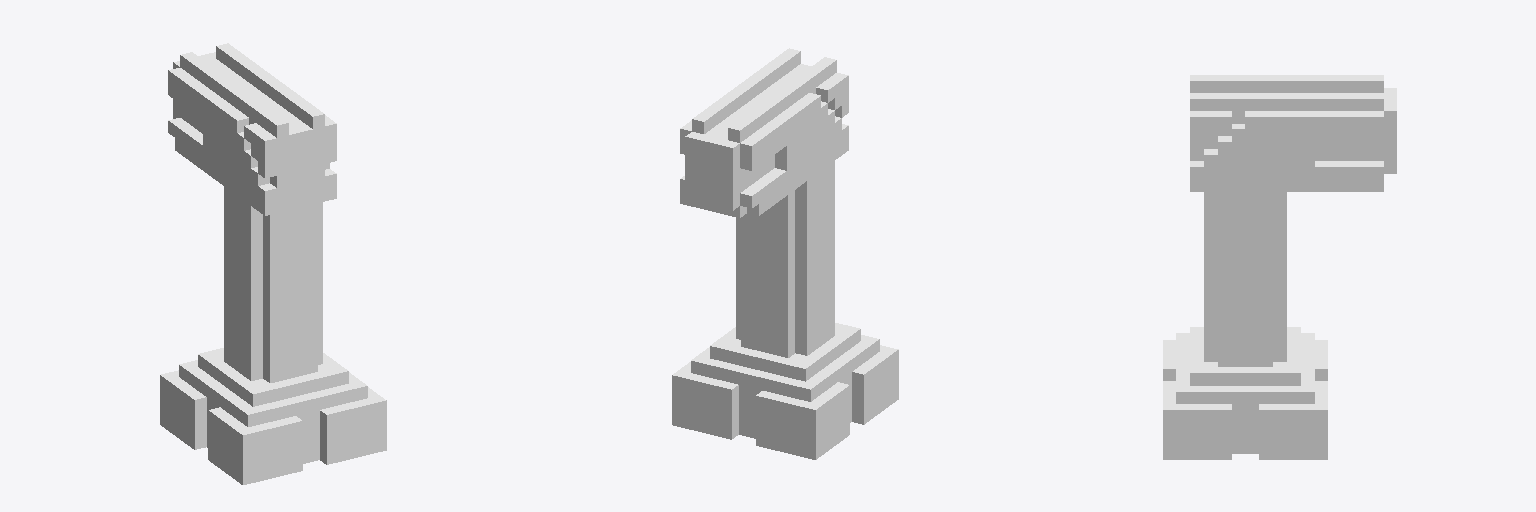
File: lighthorse.red.obj
3 views of the same model, side by side, from view 1: azimuth 30°, elevation 25°; view 2: azimuth 150°, elevation 25°; view 3: azimuth 270°, elevation 25° (orthographic).
Visible parts, largest first — view 1: object 1; view 2: object 1; view 3: object 1.
Boxes of the visible parts, x1,y1,x2,y2 form: object 1: [160, 43, 386, 484]; object 1: [672, 48, 898, 459]; object 1: [1163, 75, 1396, 459].
Size of the model in its own units: 1.2 by 2.7 by 1.7.